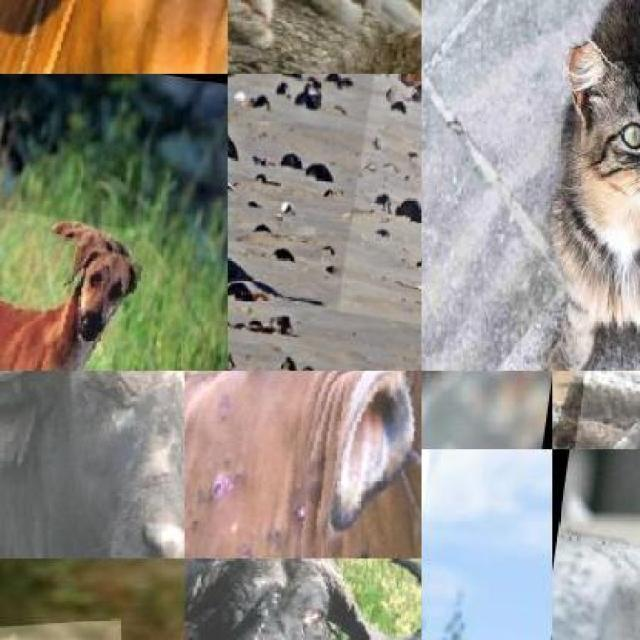buffalo: (0, 371, 185, 558), (185, 558, 422, 640)
cat: (544, 0, 640, 371), (228, 0, 410, 69)
cow: (185, 371, 422, 558)
dog: (0, 184, 134, 370), (336, 74, 422, 363)
injured: (184, 463, 314, 559), (408, 142, 422, 249)
